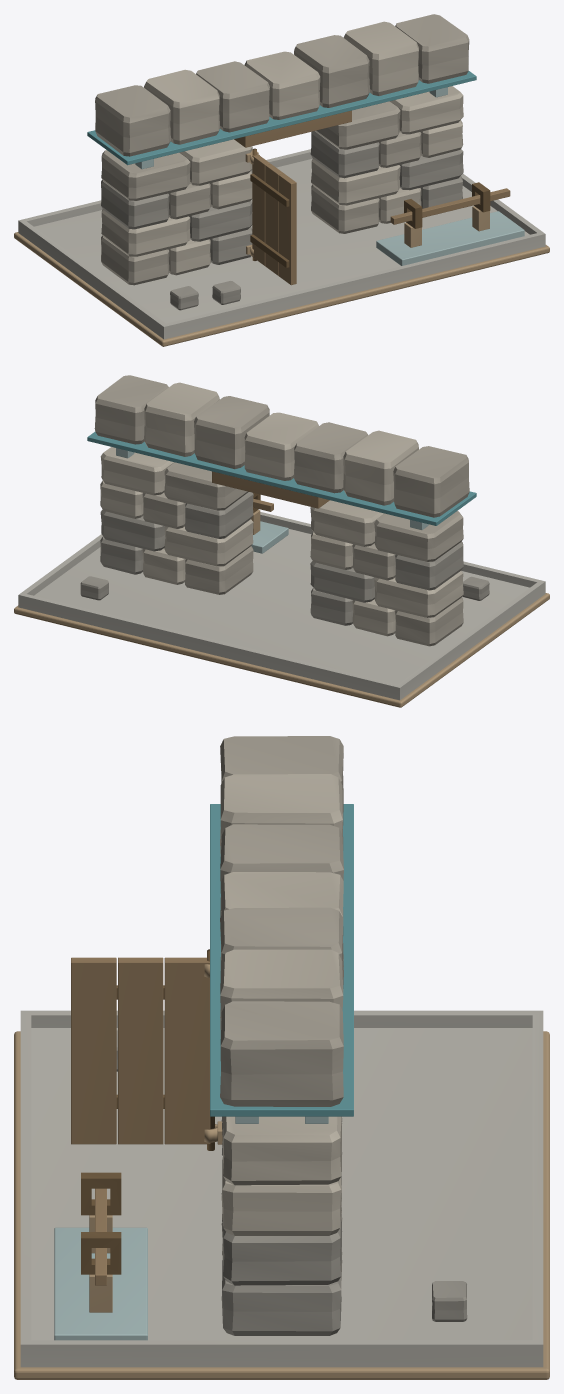
File: nehemiah-wall.glb
3 views of the same model, one above another, from view 1: azimuth 30°, elevation 25°; view 2: azimuth 150°, elevation 25°; view 3: azimuth 270°, elevation 25° (orthographic). The views are drawn at different scales.
Parts seen in each view (by area): view 1: nehemiah-wall-nehemiah-modern-recessed-fixture, nehemiah-wall-nehemiah-original-rough-stone.002, nehemiah-wall-nehemiah-original-pale-stone.002, nehemiah-wall-nehemiah-original-pale-stone, nehemiah-wall-nehemiah-original-pale-stone.001, nehemiah-wall-nehemiah-original-rough-stone, nehemiah-wall-nehemiah-original-rough-stone.001, nehemiah-wall-nehemiah-original-dark-stone, nehemiah-wall-nehemiah-original-dark-stone.001, nehemiah-wall-nehemiah-original-pale-wood, nehemiah-wall-nehemiah-original-ordinary-wood.001, nehemiah-wall-nehemiah-modern-pale-section-indicator.001 (+7 smaller); view 2: nehemiah-wall-nehemiah-modern-recessed-fixture, nehemiah-wall-nehemiah-original-rough-stone.002, nehemiah-wall-nehemiah-original-pale-stone.002, nehemiah-wall-nehemiah-original-pale-stone, nehemiah-wall-nehemiah-original-pale-stone.001, nehemiah-wall-nehemiah-original-rough-stone, nehemiah-wall-nehemiah-original-rough-stone.001, nehemiah-wall-nehemiah-original-dark-stone, nehemiah-wall-nehemiah-original-dark-stone.001, nehemiah-wall-nehemiah-original-pale-wood, nehemiah-wall-nehemiah-modern-section-indicator, nehemiah-wall-nehemiah-original-ordinary-wood (+2 smaller); view 3: nehemiah-wall-nehemiah-modern-recessed-fixture, nehemiah-wall-nehemiah-original-rough-stone.002, nehemiah-wall-nehemiah-original-ordinary-wood.001, nehemiah-wall-nehemiah-original-pale-stone.002, nehemiah-wall-nehemiah-original-pale-stone.001, nehemiah-wall-nehemiah-original-dark-stone.001, nehemiah-wall-nehemiah-original-pale-wood, nehemiah-wall-nehemiah-modern-section-indicator, nehemiah-wall-nehemiah-modern-pale-section-indicator.001, nehemiah-wall-nehemiah-original-wood-edge.001, nehemiah-wall-nehemiah-original-dark-stone.002, nehemiah-wall-nehemiah-original-pale-wood.002 (+1 smaller).
Boxes of the visible parts, <box> form: nehemiah-wall-nehemiah-modern-recessed-fixture: <box>18,149,545,339</box>; nehemiah-wall-nehemiah-original-rough-stone.002: <box>95,14,469,156</box>; nehemiah-wall-nehemiah-original-pale-stone.002: <box>144,21,418,144</box>; nehemiah-wall-nehemiah-original-pale-stone: <box>101,139,252,275</box>; nehemiah-wall-nehemiah-original-pale-stone.001: <box>311,86,463,223</box>; nehemiah-wall-nehemiah-original-rough-stone: <box>101,150,211,285</box>; nehemiah-wall-nehemiah-original-rough-stone.001: <box>311,101,421,233</box>; nehemiah-wall-nehemiah-original-dark-stone: <box>101,180,252,264</box>; nehemiah-wall-nehemiah-original-dark-stone.001: <box>310,131,463,208</box>; nehemiah-wall-nehemiah-original-pale-wood: <box>14,232,549,346</box>; nehemiah-wall-nehemiah-original-ordinary-wood.001: <box>252,154,296,285</box>; nehemiah-wall-nehemiah-modern-pale-section-indicator.001: <box>376,211,524,265</box>; nehemiah-wall-nehemiah-modern-recessed-fixture: <box>18,512,545,700</box>; nehemiah-wall-nehemiah-original-rough-stone.002: <box>94,375,469,517</box>; nehemiah-wall-nehemiah-original-pale-stone.002: <box>144,382,418,505</box>; nehemiah-wall-nehemiah-original-pale-stone: <box>310,500,463,636</box>; nehemiah-wall-nehemiah-original-pale-stone.001: <box>100,447,253,584</box>; nehemiah-wall-nehemiah-original-rough-stone: <box>352,511,463,646</box>; nehemiah-wall-nehemiah-original-rough-stone.001: <box>142,462,253,594</box>; nehemiah-wall-nehemiah-original-dark-stone: <box>310,541,463,625</box>; nehemiah-wall-nehemiah-original-dark-stone.001: <box>100,492,253,574</box>; nehemiah-wall-nehemiah-original-pale-wood: <box>14,593,549,707</box>; nehemiah-wall-nehemiah-modern-section-indicator: <box>87,432,476,525</box>; nehemiah-wall-nehemiah-original-ordinary-wood: <box>212,471,329,508</box>; nehemiah-wall-nehemiah-modern-recessed-fixture: <box>20,1010,543,1367</box>; nehemiah-wall-nehemiah-original-rough-stone.002: <box>220,736,343,1106</box>; nehemiah-wall-nehemiah-original-ordinary-wood.001: <box>71,957,210,1144</box>; nehemiah-wall-nehemiah-original-pale-stone.002: <box>220,774,343,1038</box>; nehemiah-wall-nehemiah-original-pale-stone.001: <box>221,1116,342,1280</box>; nehemiah-wall-nehemiah-original-dark-stone.001: <box>221,1141,342,1335</box>; nehemiah-wall-nehemiah-original-pale-wood: <box>14,1031,549,1379</box>; nehemiah-wall-nehemiah-modern-section-indicator: <box>210,804,353,1116</box>; nehemiah-wall-nehemiah-modern-pale-section-indicator.001: <box>54,1227,147,1340</box>; nehemiah-wall-nehemiah-original-wood-edge.001: <box>81,1172,121,1274</box>; nehemiah-wall-nehemiah-original-dark-stone.002: <box>116,1030,467,1321</box>; nehemiah-wall-nehemiah-original-pale-wood.002: <box>89,1215,112,1312</box>.
Size of the model in its own units: 1.2 by 0.5439 by 0.8.
